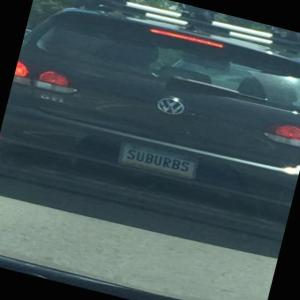Plate: (115, 140, 200, 182)
